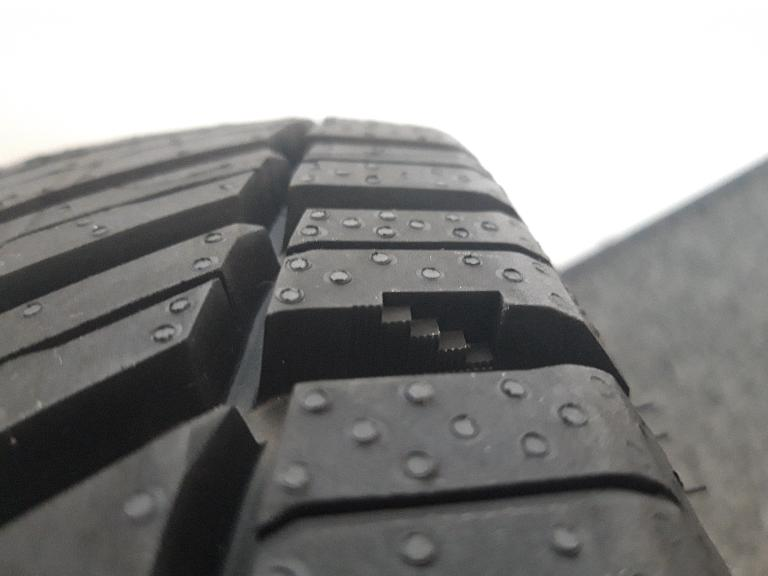temoin:100: (349, 288, 512, 380)
